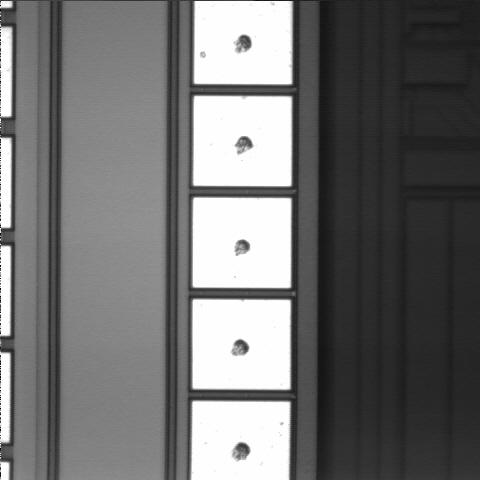pad: (193, 96, 292, 186), (192, 299, 291, 389), (193, 198, 291, 288)
